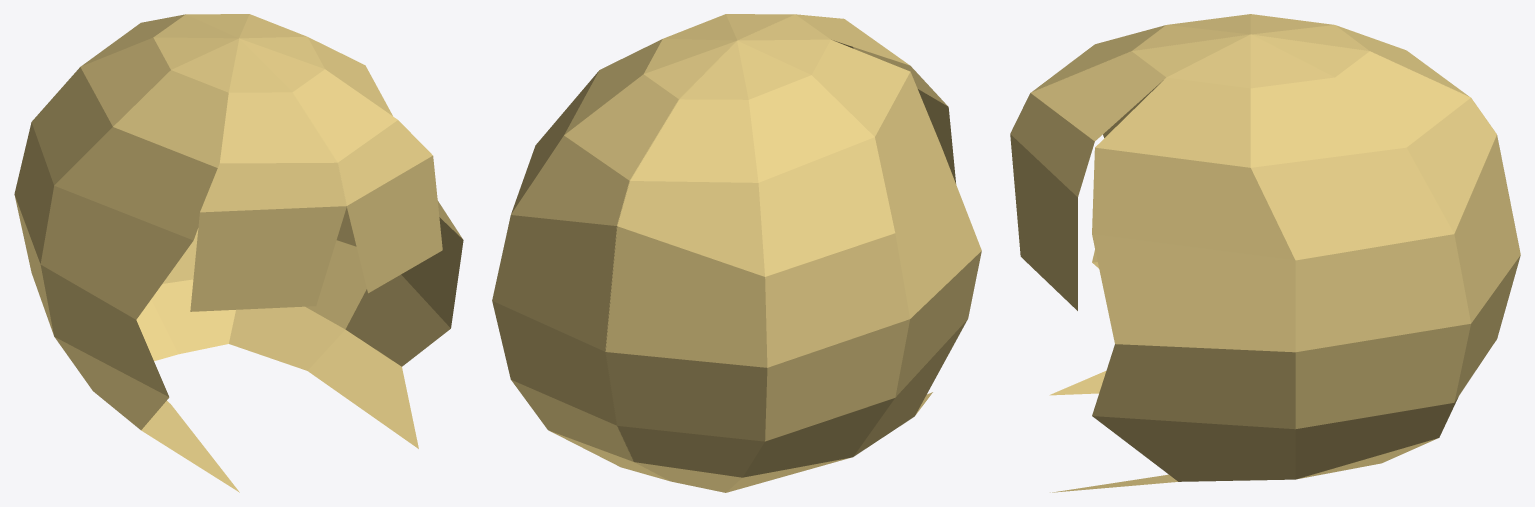
The model's file is hair2.fbx.
3 renders of one model, left to right at view 1: azimuth 30°, elevation 25°; view 2: azimuth 150°, elevation 25°; view 3: azimuth 270°, elevation 25°, orthographic. The views are drawn at different scales.
Parts seen in each view (by area): view 1: pSphere3; view 2: pSphere3; view 3: pSphere3.
Boxes of the visible parts, box(x1,y1,x2,y2) form: pSphere3: box(14, 14, 463, 492); pSphere3: box(492, 14, 981, 492); pSphere3: box(1010, 14, 1520, 492).
Bounding box in the file's own units: 3.28 × 3.22 × 3.64.
